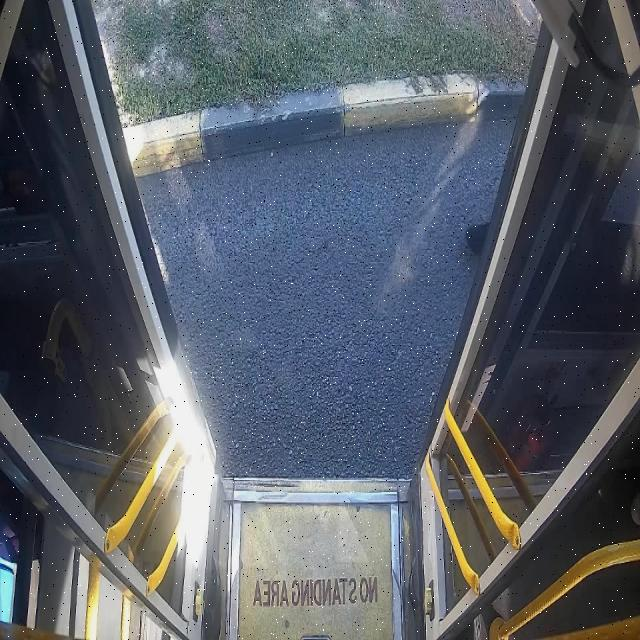open: (63, 0, 566, 486)
